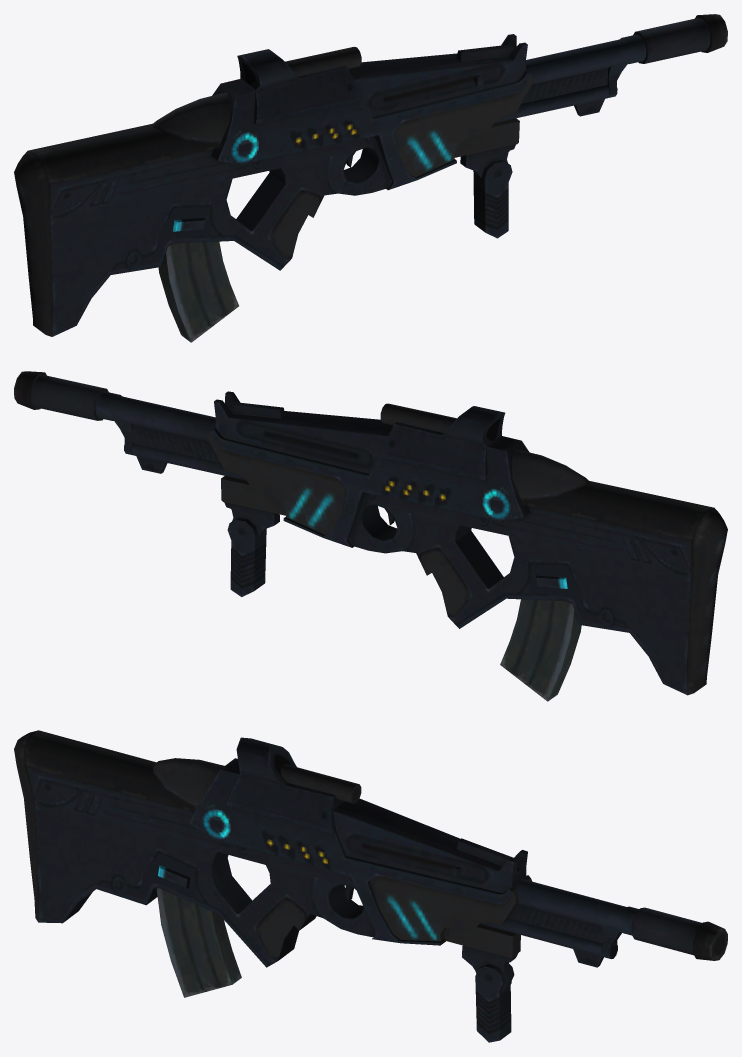
File: shield_med_gun.glb
3 views of the same model, one above another, from view 1: azimuth 30°, elevation 25°; view 2: azimuth 150°, elevation 25°; view 3: azimuth 330°, elevation 25° (orthographic).
Visible parts, largest first — view 1: weapons/shield_med_gun_0; view 2: weapons/shield_med_gun_0; view 3: weapons/shield_med_gun_0.
Boxes of the visible parts, x1,y1,x2,y2 form: weapons/shield_med_gun_0: (14, 14, 727, 342); weapons/shield_med_gun_0: (14, 371, 727, 701); weapons/shield_med_gun_0: (14, 730, 727, 1042).
Bounding box in the file's own units: 2 × 0.7369 × 0.1477.
Materials: 1 (1 with a texture image).
